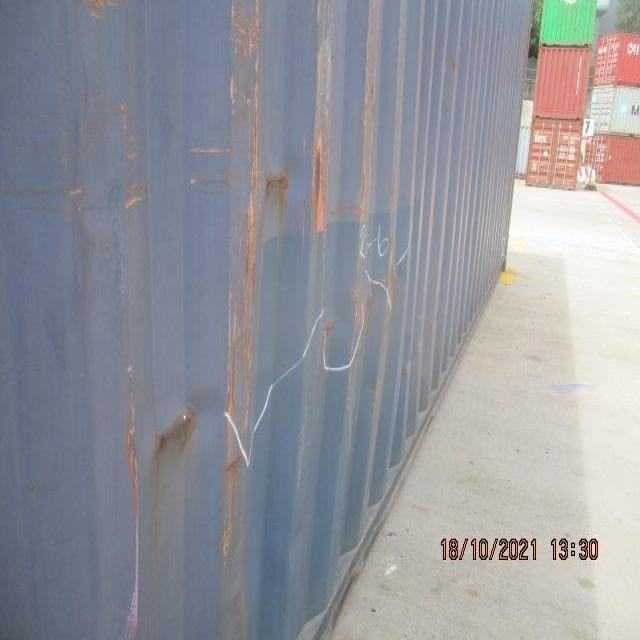Dent: (68, 212, 422, 531)
